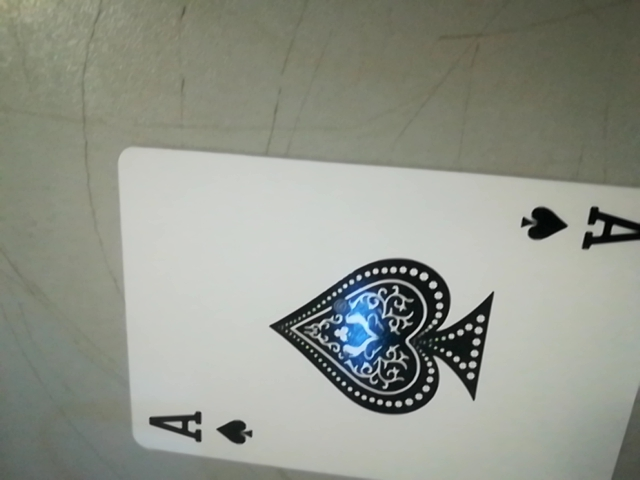ht a: (506, 193, 638, 256), (134, 402, 272, 461)
